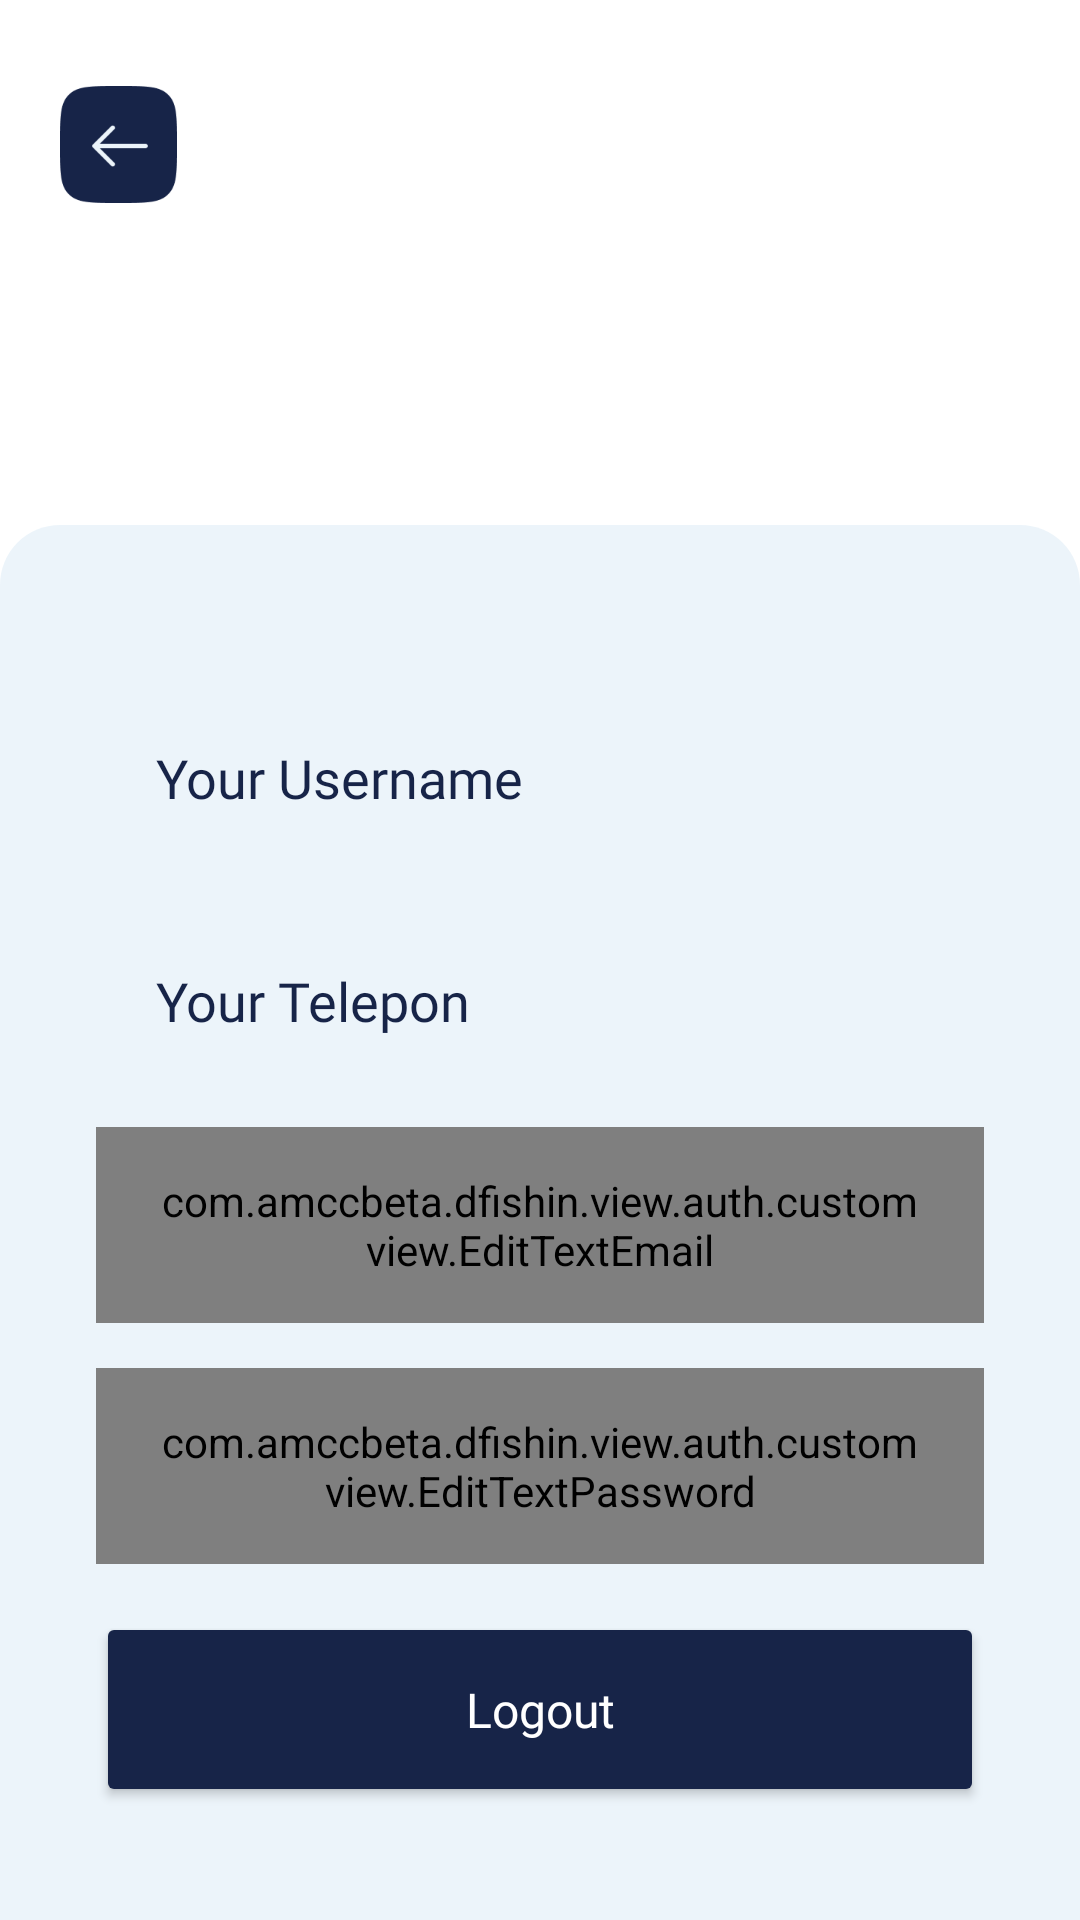

Icons on this 1080×1920 Android screen, each with the point to tap as point (x, y):
back: point (118, 144)
